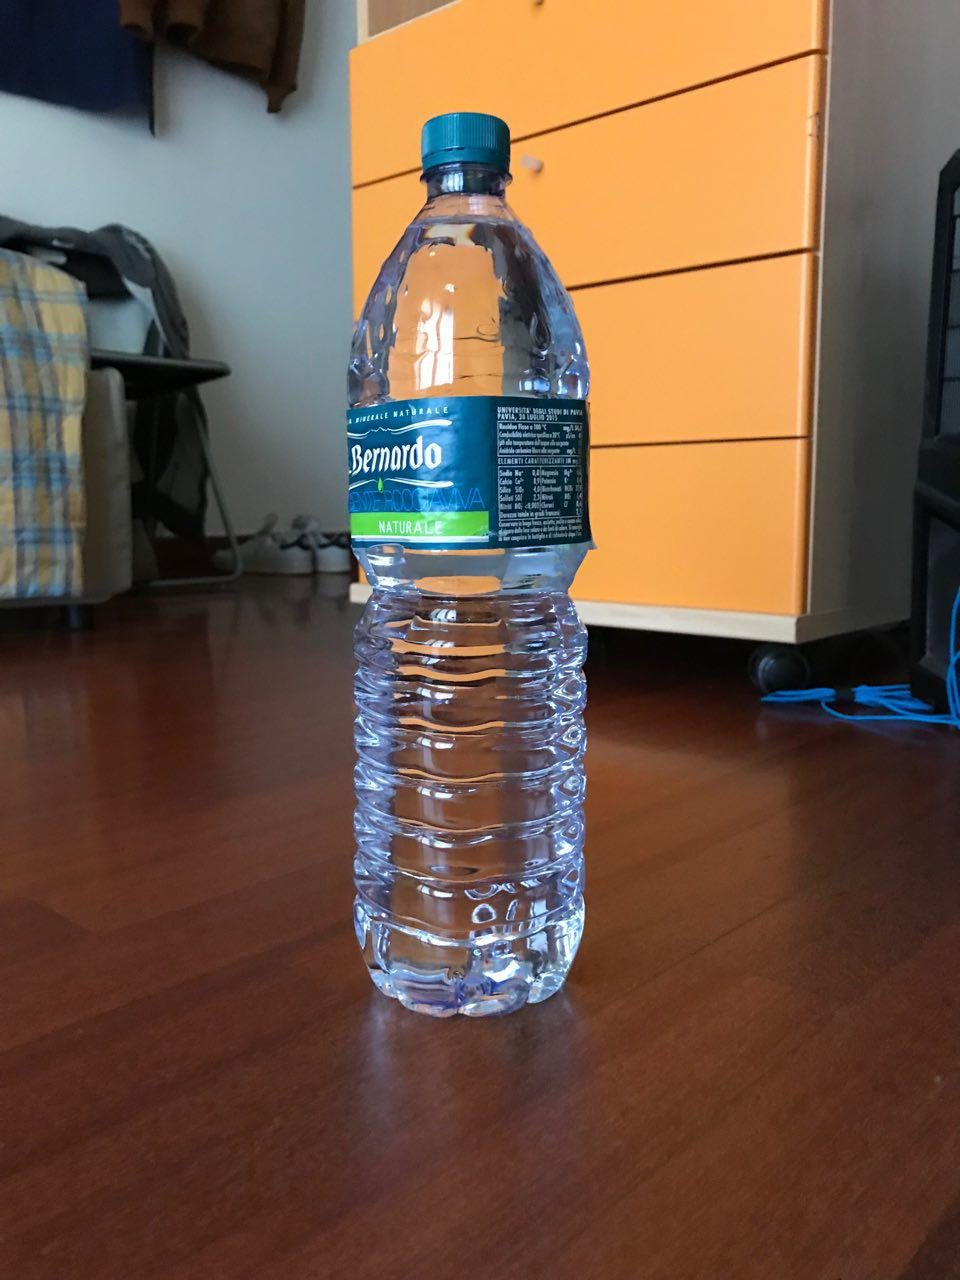san_bernardo: (344, 111, 596, 1023)
